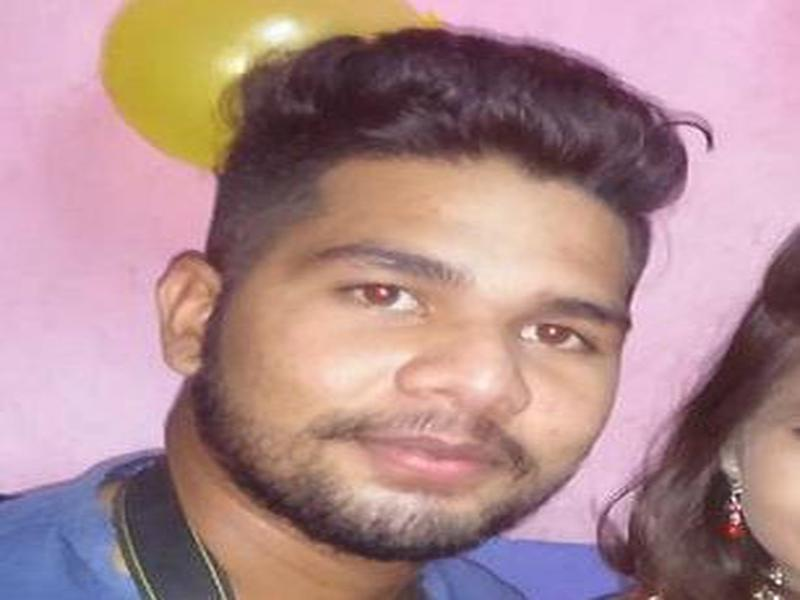without_mask: (206, 142, 634, 567)
